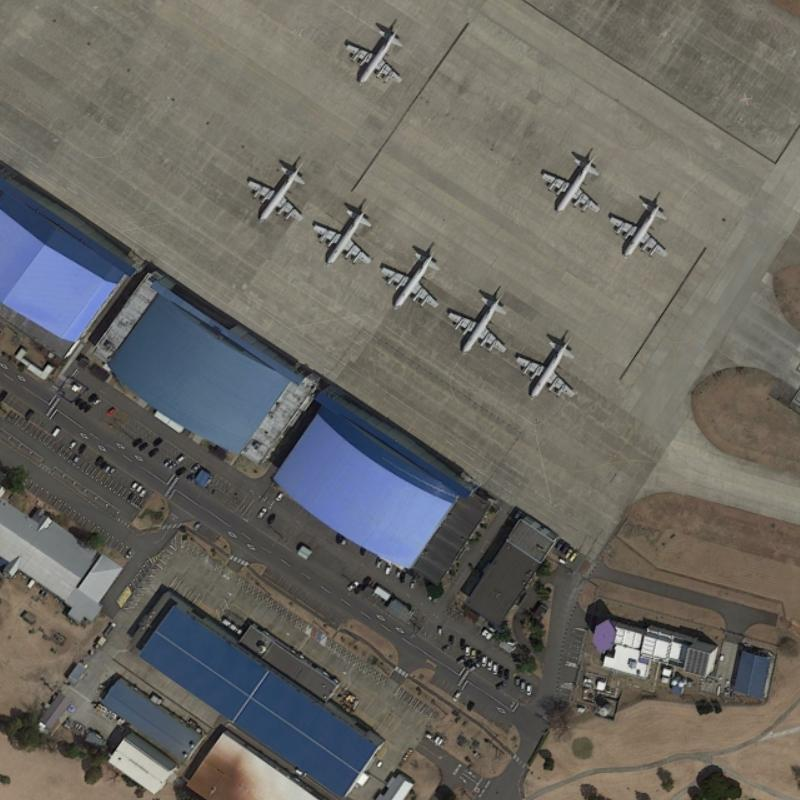A9: (512, 332, 580, 403), (444, 287, 509, 357), (340, 20, 407, 86), (375, 246, 441, 313), (243, 158, 307, 226), (310, 199, 373, 268), (539, 150, 602, 217), (604, 197, 668, 261)
